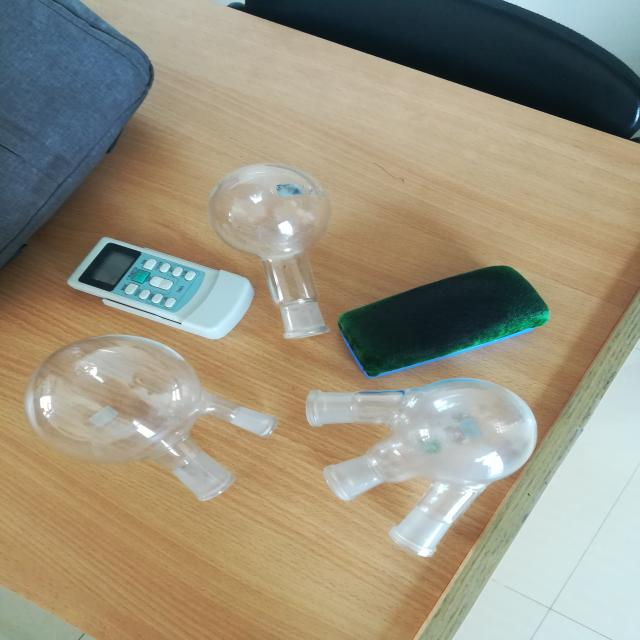Round_Bottom_Flask_Borosilicate_Glass_1_Neck: (200, 141, 377, 351)
Round_Bottom_Flask_Borosilicate_Glass_2_Neck: (16, 306, 286, 526)
Round_Bottom_Flask_Borosilicate_Glass_3_Neck: (293, 340, 557, 572)
